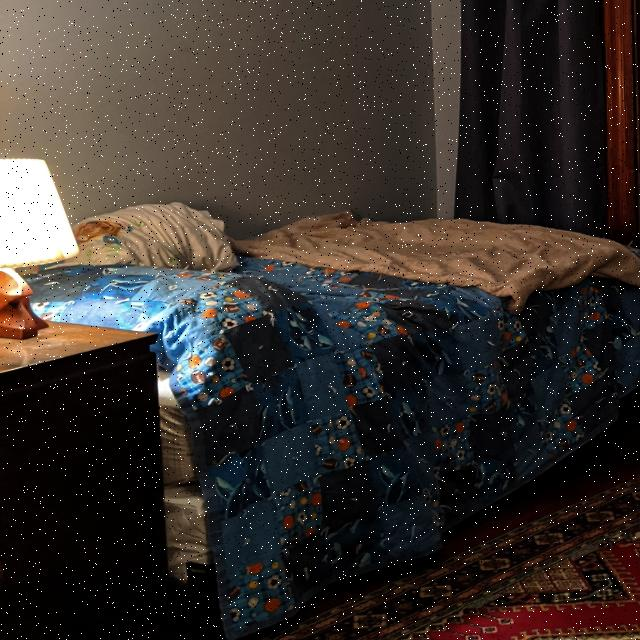bed: (8, 200, 640, 633)
